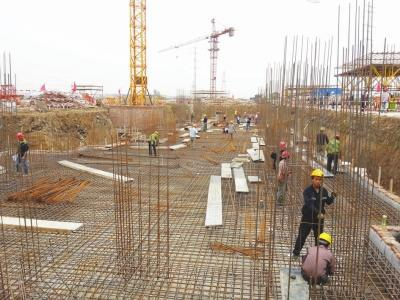helmet: (315, 231, 333, 251), (310, 168, 326, 187)
